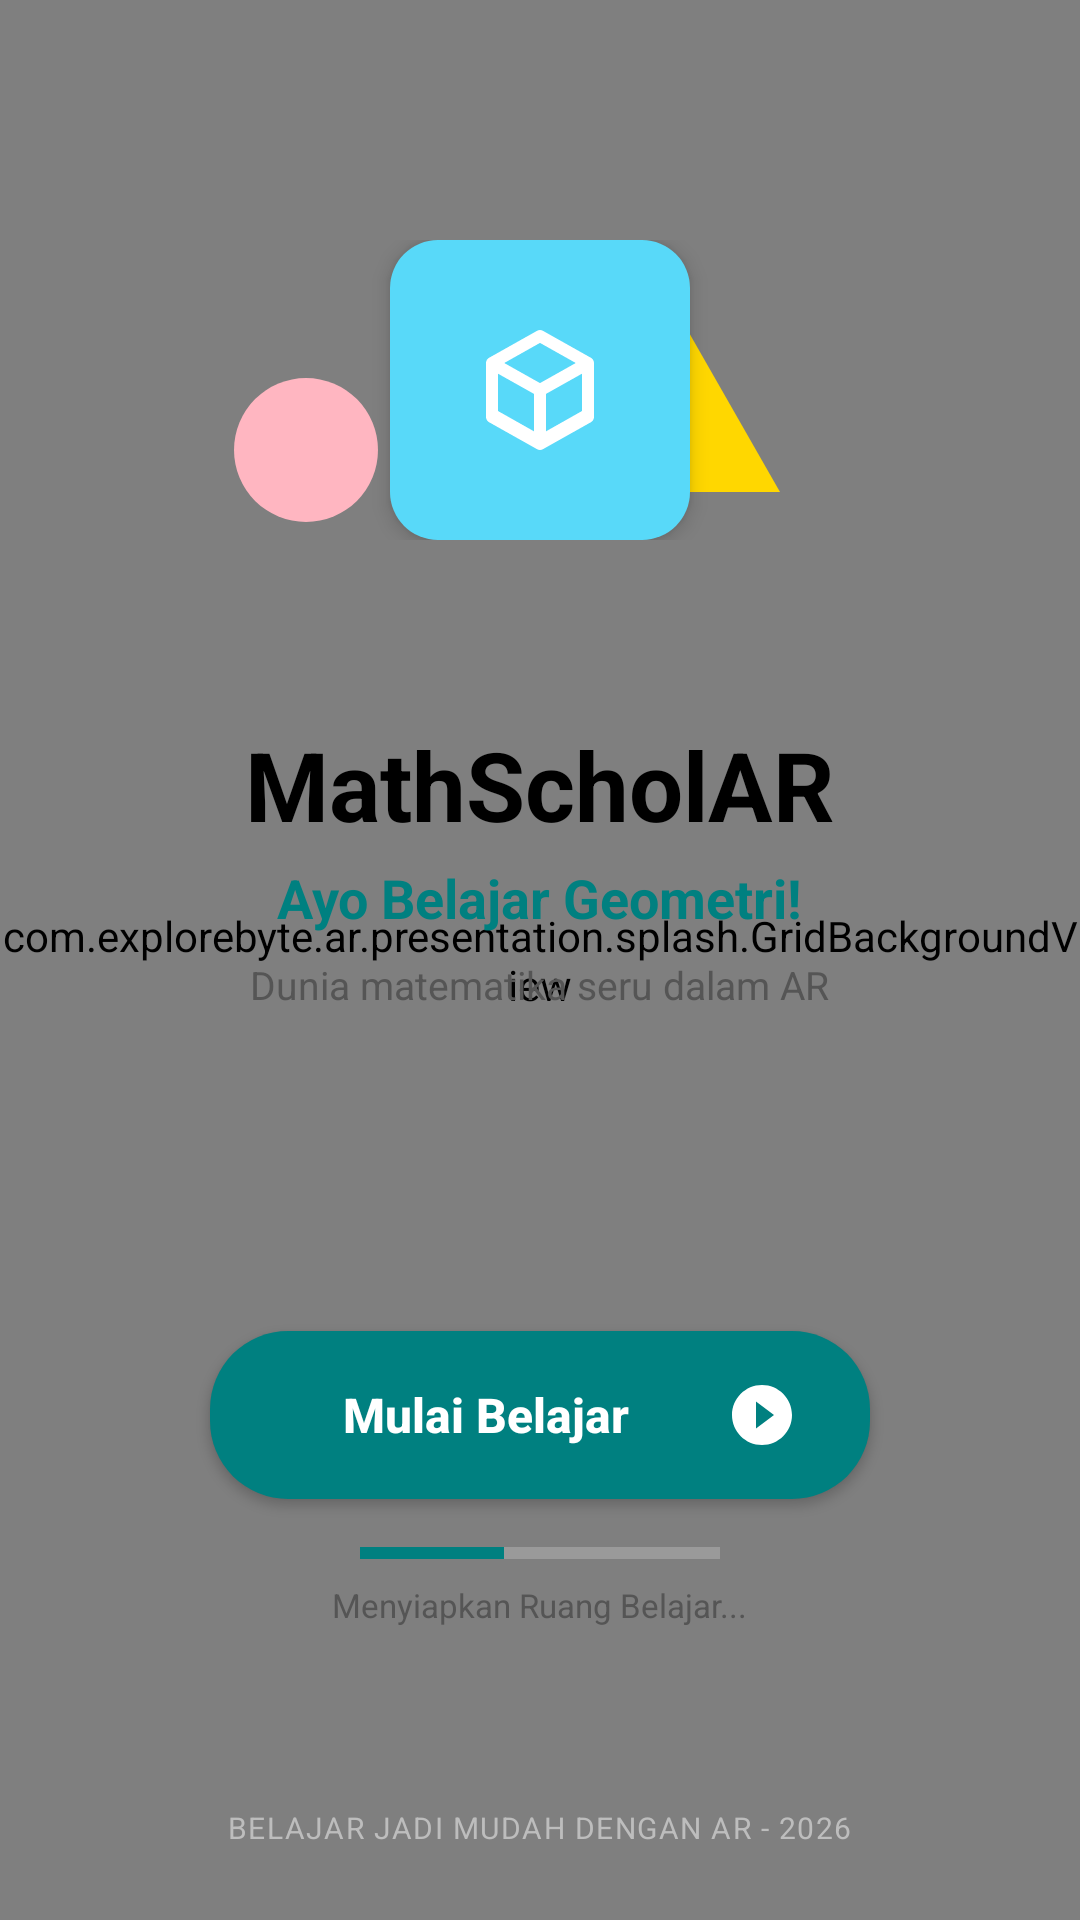

Where to tap for icons on this 1080w x 1920h app screen, as point (x, y):
math circle: point (306, 450)
math cube: point (540, 390)
